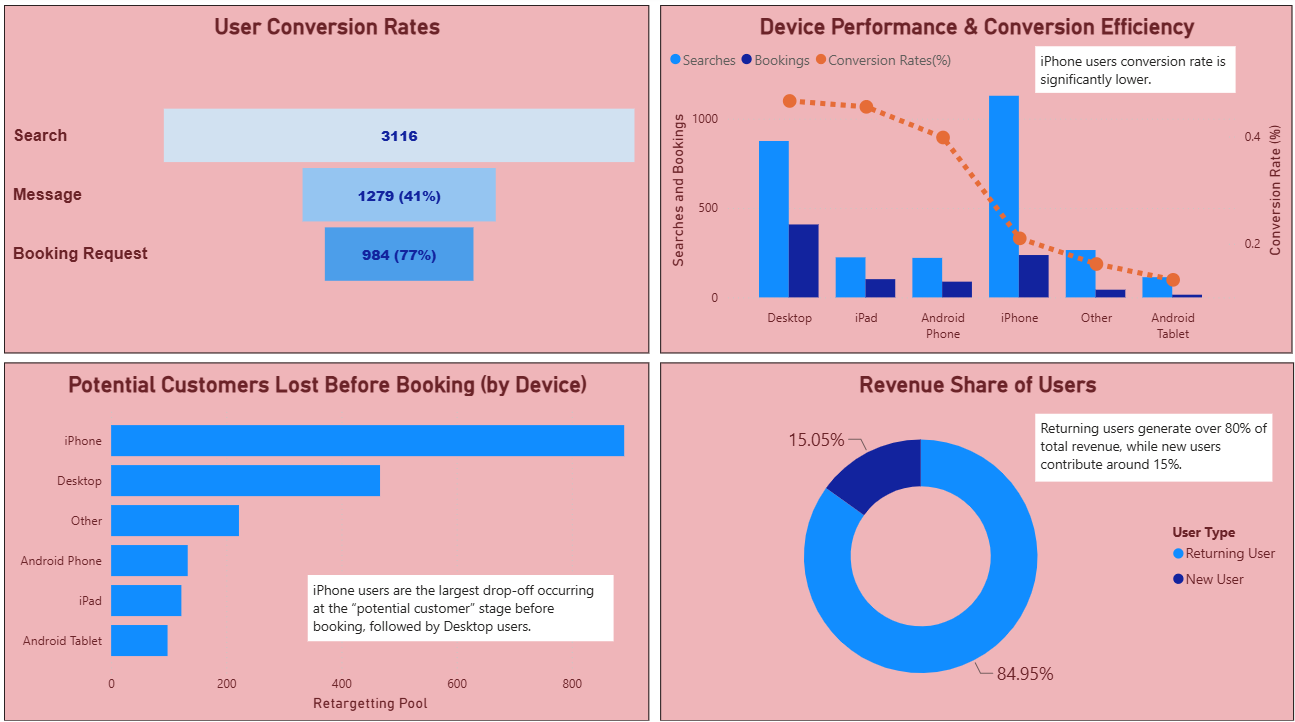

Layout of this report page (visuals, bound fields, positions):
{"tool":"powerbi","page":{"name":"Performance & Revenue Insights","canvas":[1280,720],"ordinal":3},"visuals":[{"type":"funnel","title":"User Conversion Rates ","fields":{"Category":["AdvertivingStrategy_1_Stages.Stage"],"Y":["select","AdvertivingStrategy_1_Stages.Funnel Value"]},"box":[9.8,9.8,631,341.2],"z":0},{"type":"lineClusteredColumnComboChart","title":"Device Performance & Conversion Efficiency","fields":{"Category":["Search Data.Device"],"Y":["AdvertivingStrategy_1_Stages.Searches","Search Data.Bookings"],"Y2":["AdvertivingStrategy_1_Stages.Device Conversion Rates"]},"box":[651.8,9.8,618.8,341.2],"z":1000},{"type":"clusteredBarChart","title":"Potential Customers Lost Before Booking (by Device)","fields":{"Category":["Search Data.Device"],"Y":["AdvertivingStrategy_1_Stages.Retargetting Pool"]},"box":[9.8,359.5,631,351],"z":2000},{"type":"donutChart","title":"Revenue Share of Users","fields":{"Category":["Search Data.User Type"],"Y":["AdvertivingStrategy_1_Stages.Total Booking Revenue"]},"box":[651.8,359.5,620,351],"z":6000},{"type":"textbox","box":[1018.6,50.1,195.7,45.2],"z":9000},{"type":"textbox","box":[306.9,567.4,299.6,64.8],"z":10000},{"type":"textbox","box":[1018.6,409.6,232.3,66],"z":11000}]}

Visuals, with their boxes in screenshot pixels (x1, y1, x2, y2), scaled from the page's 1280x720 canvas onto the 1295x722 screenshot:
"User Conversion Rates " funnel: [10, 10, 648, 352]
"Device Performance & Conversion Efficiency" lineClusteredColumnComboChart: [659, 10, 1285, 352]
"Potential Customers Lost Before Booking (by Device)" clusteredBarChart: [10, 360, 648, 712]
"Revenue Share of Users" donutChart: [659, 360, 1287, 712]
textbox: [1031, 50, 1229, 96]
textbox: [310, 569, 614, 634]
textbox: [1031, 411, 1266, 477]
